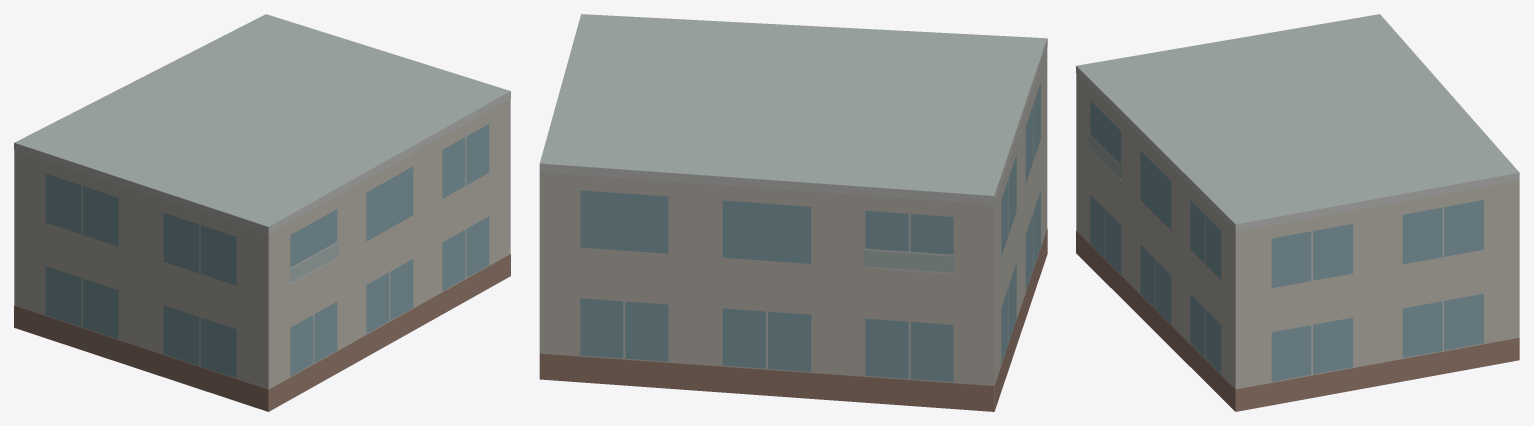
The model's file is survey-upis-32856541.glb.
The picture shows the model from 3 angles, left to right: view 1: azimuth 30°, elevation 25°; view 2: azimuth 150°, elevation 25°; view 3: azimuth 270°, elevation 25°; orthographic projection. The views are drawn at different scales.
Visible parts, largest first — view 1: survey-upis-32856541.tmp; view 2: survey-upis-32856541.tmp; view 3: survey-upis-32856541.tmp.
Part boxes in pixels (left/top/right/bottom): survey-upis-32856541.tmp: left=14, top=14, right=510, bottom=411; survey-upis-32856541.tmp: left=539, top=14, right=1047, bottom=411; survey-upis-32856541.tmp: left=1076, top=14, right=1519, bottom=411.
Bounding box in the file's own units: 14.69 × 6.1 × 13.09.
